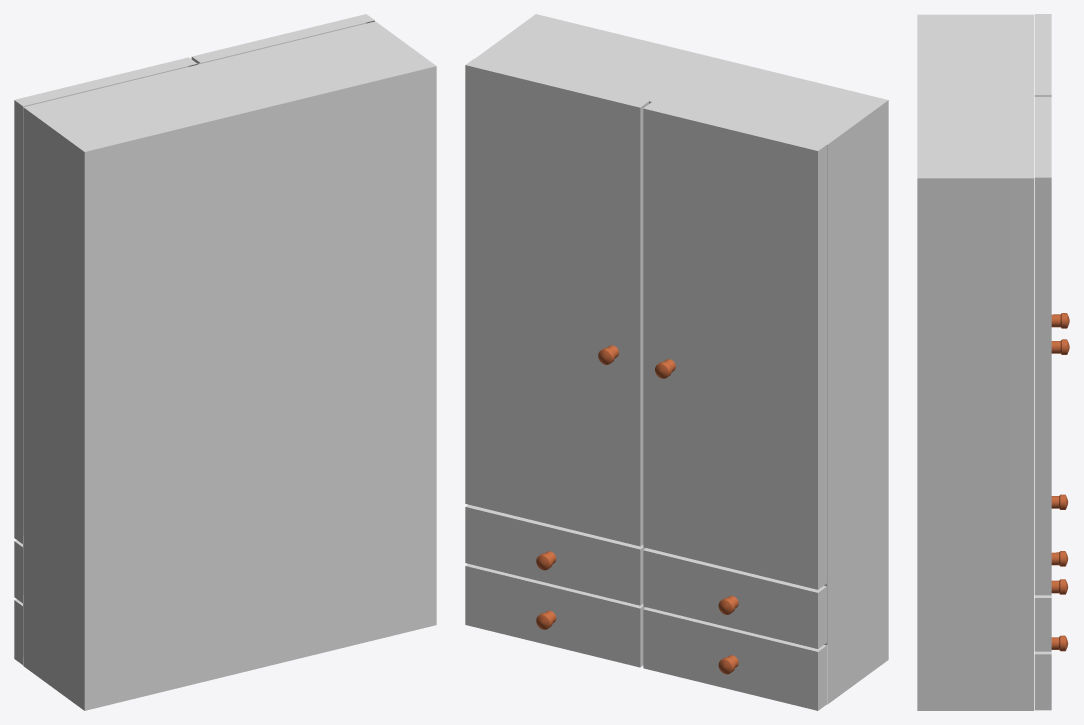
The model's file is Lemari.fbx.
3 renders of one model, left to right at view 1: azimuth 30°, elevation 25°; view 2: azimuth 150°, elevation 25°; view 3: azimuth 270°, elevation 25°, orthographic. The views are drawn at different scales.
Visible parts, largest first — view 1: lemari, pintu lemari; view 2: pintu lemari, lemari, gagang; view 3: lemari, pintu lemari, gagang.
Boxes of the visible parts, x1,y1,x2,y2 form: lemari: (23,21,436,710); pintu lemari: (14,14,374,664); pintu lemari: (465,58,826,710); lemari: (475,14,888,704); gagang: (536,345,738,674); lemari: (917,14,1033,710); pintu lemari: (1034,14,1051,710); gagang: (1051,313,1069,651).
Bounding box in the file's own units: 182 × 277 × 71.75.
